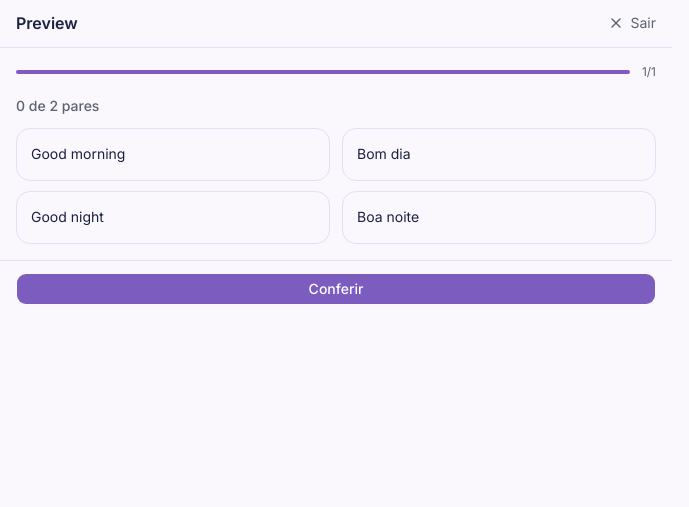
Test: ExercisePreview › usa a barra compartilhada e o renderer de pares como gabarito no erro de MATCH_CLICK
Click the button with test id "match-entry-left-left-1". click: (78, 154)
box: [16,128,330,181]
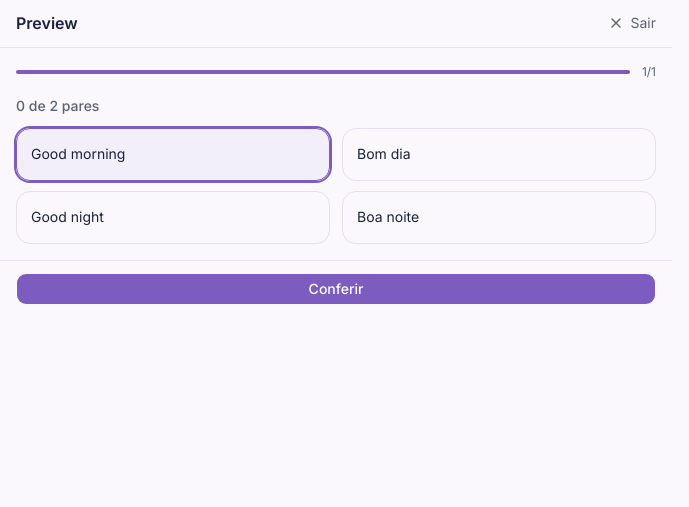
Click the button with test id "match-entry-right-right-2". click: (388, 216)
box: [342,191,656,244]
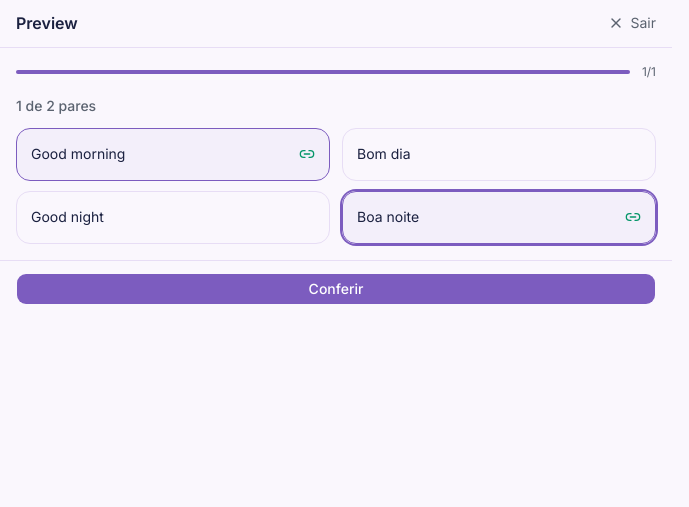
Click the button with test id "match-entry-left-left-2". click: (67, 216)
box: [16,191,330,244]
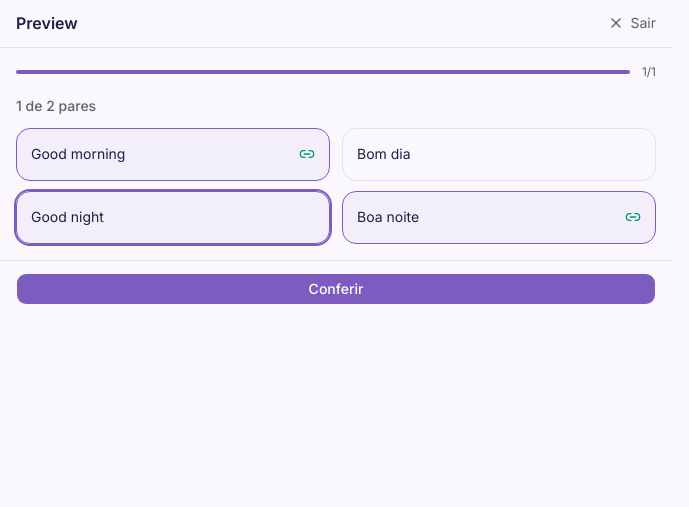
Click the button with test id "match-entry-right-right-1". click: (384, 154)
box: [342,128,656,181]
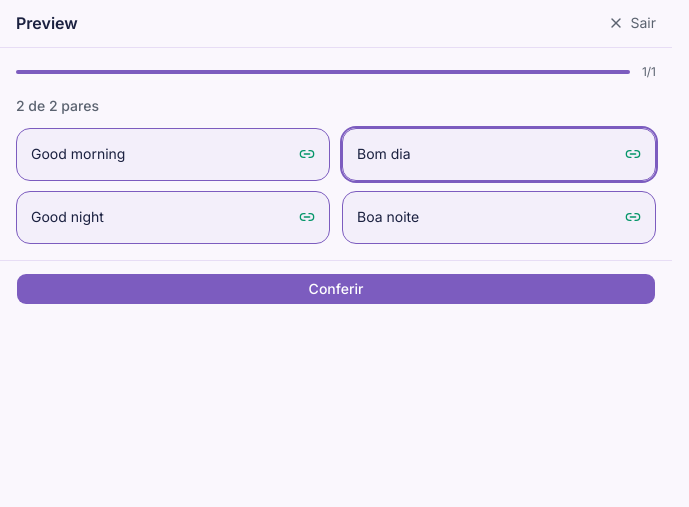
Click the button "Conferir". click: (336, 288)
box: [16,272,656,304]
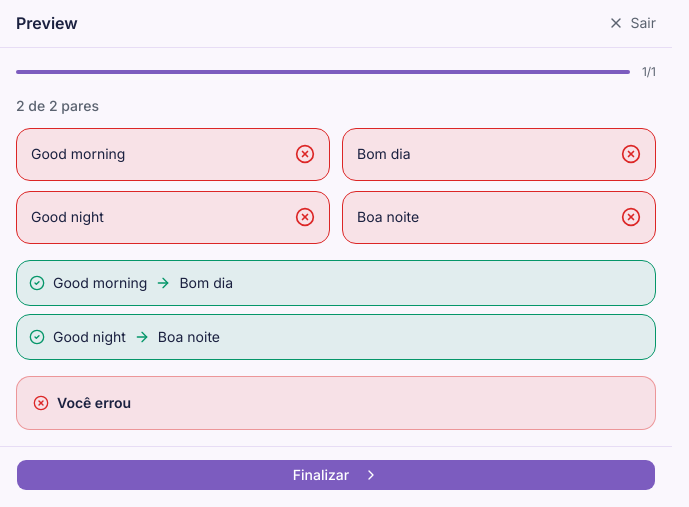
Now the number of messages with test id "exercise-result" is 1, box [16,376,656,430]
Now the message with test id "exercise-result" reads "Você errou", box [57,394,131,410]
Now the element with test id "match-correct-pairs" is shown, box [16,260,656,360]
